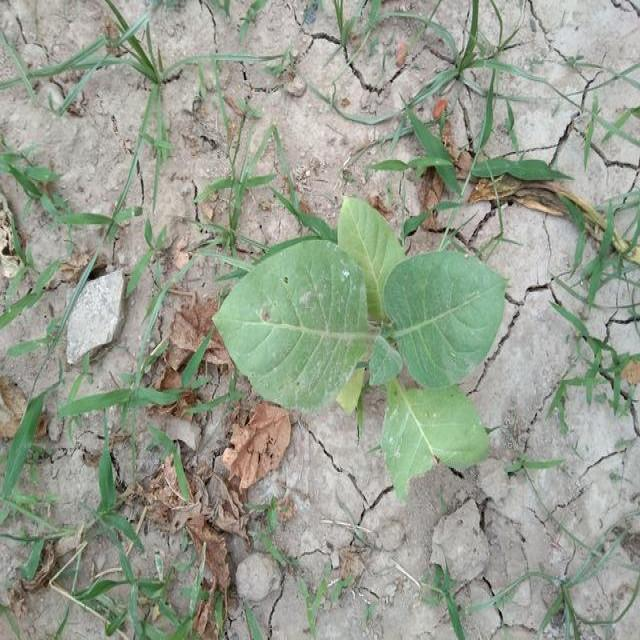crop: (218, 190, 512, 486)
